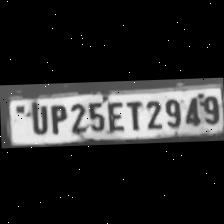2: (67, 99, 87, 134), (142, 96, 162, 130)
4: (182, 92, 200, 126)
5: (86, 98, 104, 132)
9: (161, 94, 181, 128), (200, 90, 220, 124)
E: (104, 97, 124, 132)
P: (46, 100, 66, 134)
T: (123, 96, 143, 130)
U: (25, 101, 47, 134)
